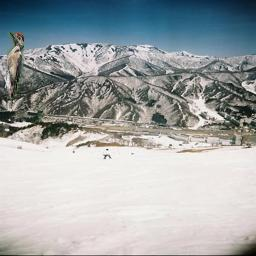Woodpecker: (7, 32, 24, 99)
